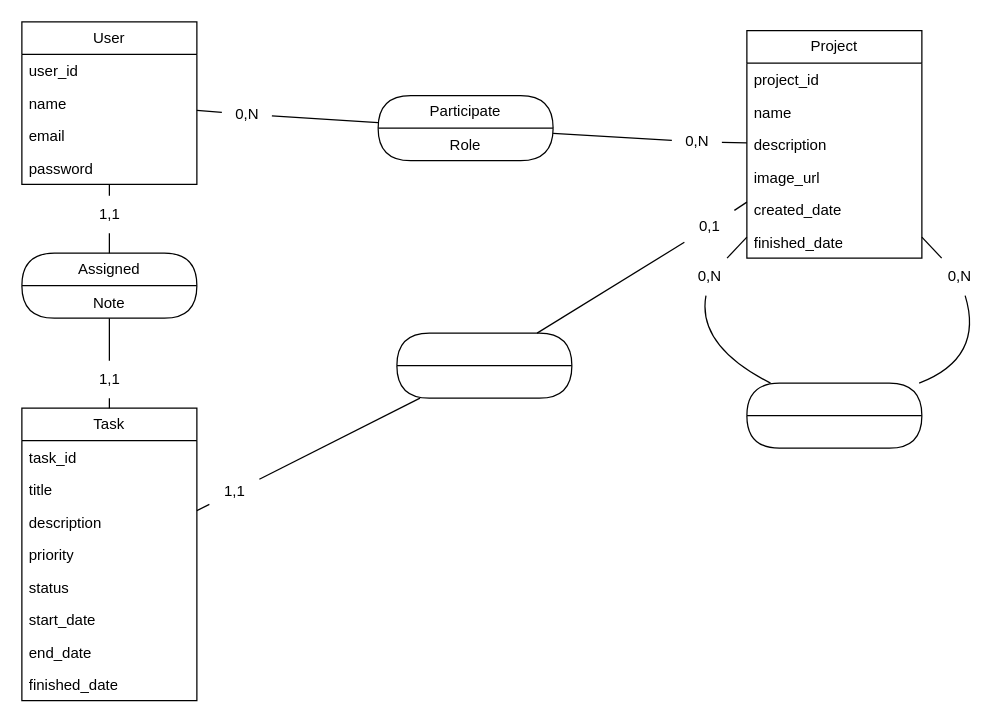
Image size: 1006x726. Some labels were removed from this diagram. Each missing label, with the centre of its shape:
"Predecessor" belongs at [834,415].
"ProjectMember" belongs at [484,365].
